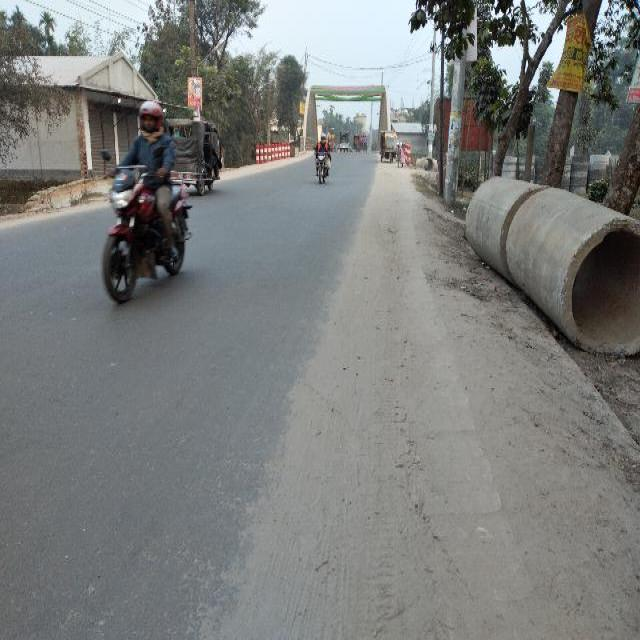bike: (99, 105, 193, 310), (313, 132, 332, 185), (397, 147, 407, 171)
vehicle: (166, 113, 224, 198), (381, 131, 398, 164), (340, 131, 350, 154), (353, 134, 361, 151), (329, 135, 337, 152), (361, 135, 368, 152)
